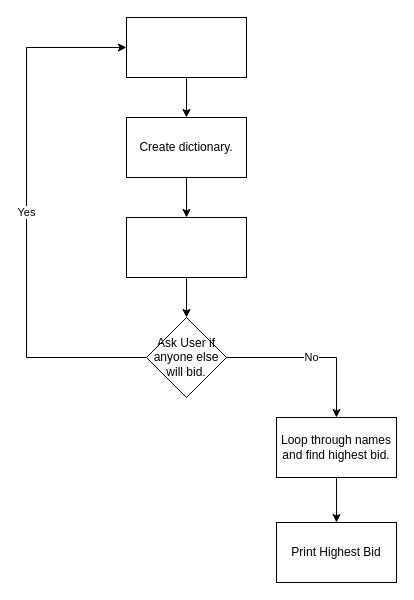
The diagram is 414 pixels wide and 600 high, and some of its shapes have lost their labels. Here are the shapes that lost their labels. From the top down, the box of each, then its label:
(126, 16, 246, 78): Ask user name and bid.
(126, 216, 246, 278): Add name and bid to dictionary.
